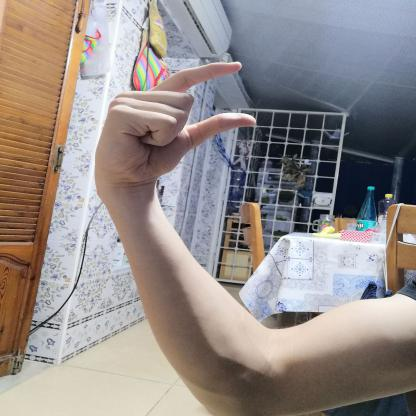DELL: (82, 52, 268, 194)
